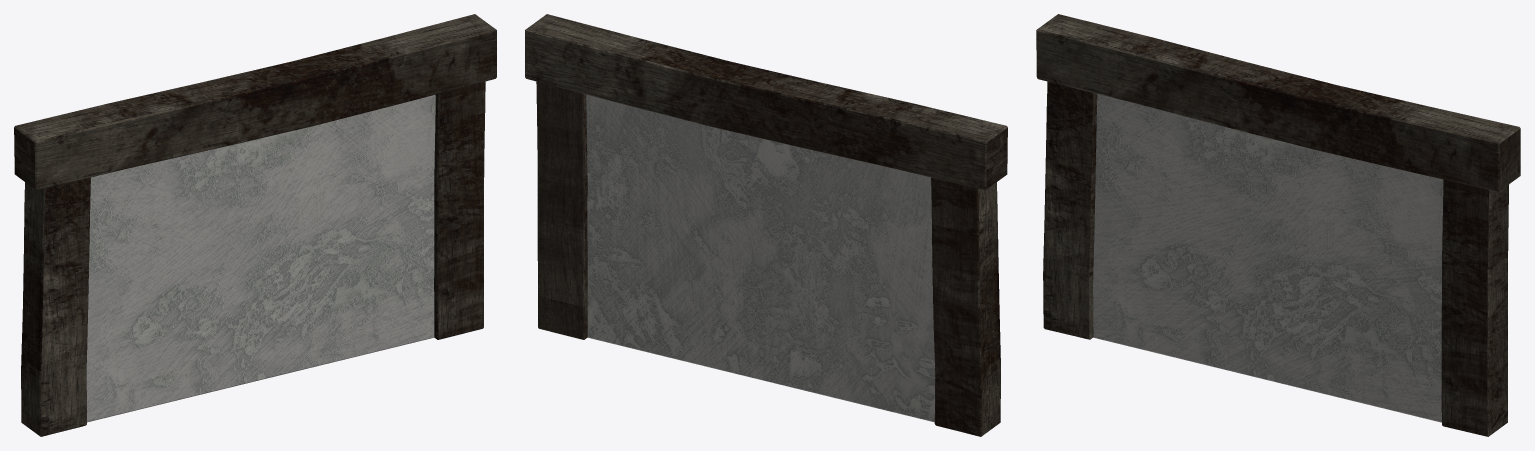
File: TudorWall3.fbx
3 views of the same model, side by side, from view 1: azimuth 30°, elevation 25°; view 2: azimuth 150°, elevation 25°; view 3: azimuth 330°, elevation 25° (orthographic).
Parts seen in each view (by area): view 1: TudorWall3; view 2: TudorWall3; view 3: TudorWall3.
Boxes of the visible parts, bbox=[...] form: TudorWall3: bbox=[14, 14, 496, 436]; TudorWall3: bbox=[525, 14, 1007, 436]; TudorWall3: bbox=[1036, 14, 1520, 436].
Size of the model in its own units: 390 by 240 by 32.24.
